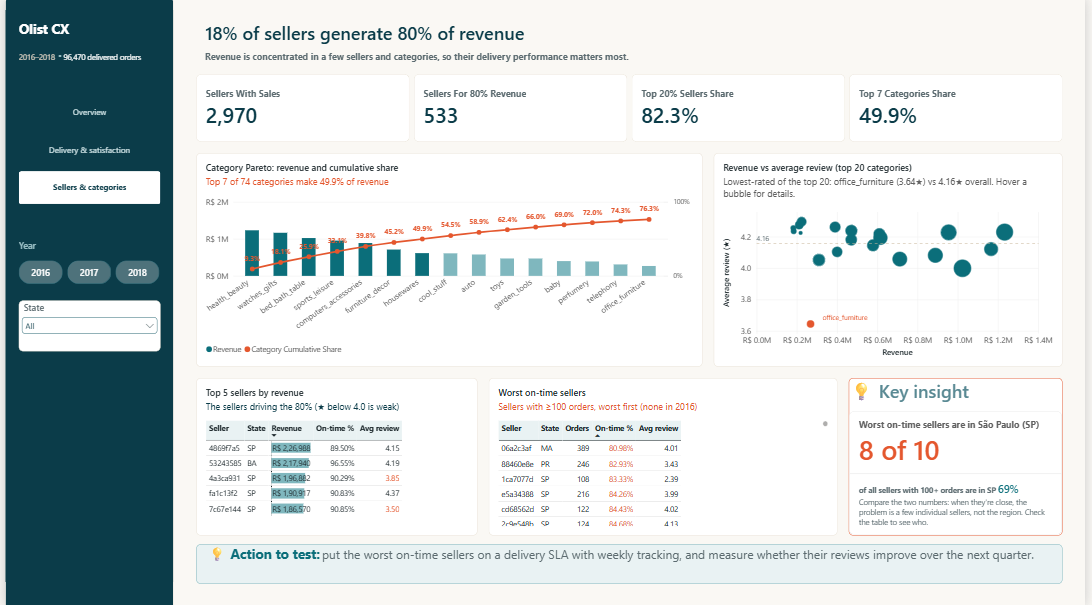

Layout of this report page (visuals, bound fields, positions):
{"tool":"powerbi","page":{"name":"Sellers & categories","canvas":[1920,1080],"ordinal":2},"visuals":[{"type":"shape","box":[0,0,300,1088],"z":0},{"type":"textbox","box":[24,38,252,105],"z":1000},{"type":"pageNavigator","box":[24,173,252,195],"z":2000},{"type":"advancedSlicerVisual","title":"Year","fields":{"Values":["dim_date.year"]},"box":[24,428,252,80],"z":3000},{"type":"slicer","fields":{"Values":["dim_customer.state"]},"box":[24,538,252,90],"z":4000},{"type":"textbox","box":[358,90,1504,28],"z":5000},{"type":"cardVisual","fields":{"Data":["_Measures.Sellers With Sales","_Measures.Sellers For 80% Revenue","_Measures.Top 20% Sellers Share","_Measures.Top 7 Categories Share"]},"box":[340.8,135,1540,120],"z":6000},{"type":"textbox","box":[340,970,1540,70],"z":7000},{"type":"lineClusteredColumnComboChart","title":"Category Pareto: revenue and cumulative share","fields":{"Category":["dim_product.category_en"],"Y":["_Measures.Revenue"],"Y2":["_Measures.Category Cumulative Share"]},"box":[340.8,275,900,380],"z":8000},{"type":"scatterChart","title":"Revenue vs average review (top 20 categories)","fields":{"Category":["dim_product.category_en"],"Size":["_Measures.Item-level Orders"],"X":["_Measures.Revenue"],"Y":["_Measures.Avg Review (via items)"]},"box":[1260,275,620,380],"z":9000},{"type":"textbox","box":[1452.9,558.8,143.1,23.5],"z":10000},{"type":"tableEx","title":"Top 5 sellers by revenue","fields":{"Values":["dim_seller.Seller","dim_seller.state","_Measures.Revenue","_Measures.Item-level On-time %","_Measures.Avg Review (via items)"]},"box":[341,675,500,280],"z":11000},{"type":"tableEx","title":"Worst on-time sellers","fields":{"Values":["dim_seller.Seller","dim_seller.state","_Measures.Item-level Orders","_Measures.Item-level On-time %","_Measures.Avg Review (via items)"]},"box":[860,675,620,280],"z":12000},{"type":"cardVisual","title":"💡 Key insight","fields":{"Data":["_Measures.Worst Sellers Headline"]},"box":[1500,675,380,280],"z":13000},{"type":"textbox","box":[1518,887.5,343.1,68.1],"z":14000},{"type":"cardVisual","fields":{"Data":["_Measures.Concentration Headline"]},"box":[340,30,900,60],"z":15000}]}

Visuals, with their boxes on the page's 1920x1080 design canvas (x1, y1, x2, y2). These are canvas units, not pixel positions in the 1092x605 screenshot, which may show the page scaled, cropped or inside an application window:
shape: region(0, 0, 300, 1088)
textbox: region(24, 38, 276, 143)
pageNavigator: region(24, 173, 276, 368)
"Year" advancedSlicerVisual: region(24, 428, 276, 508)
slicer - dim_customer.state: region(24, 538, 276, 628)
textbox: region(358, 90, 1862, 118)
cardVisual - _Measures.Sellers With Sales x _Measures.Sellers For 80% Revenue: region(341, 135, 1881, 255)
textbox: region(340, 970, 1880, 1040)
"Category Pareto: revenue and cumulative share" lineClusteredColumnComboChart: region(341, 275, 1241, 655)
"Revenue vs average review (top 20 categories)" scatterChart: region(1260, 275, 1880, 655)
textbox: region(1453, 559, 1596, 582)
"Top 5 sellers by revenue" tableEx: region(341, 675, 841, 955)
"Worst on-time sellers" tableEx: region(860, 675, 1480, 955)
"💡 Key insight" cardVisual: region(1500, 675, 1880, 955)
textbox: region(1518, 888, 1861, 956)
cardVisual - _Measures.Concentration Headline: region(340, 30, 1240, 90)
